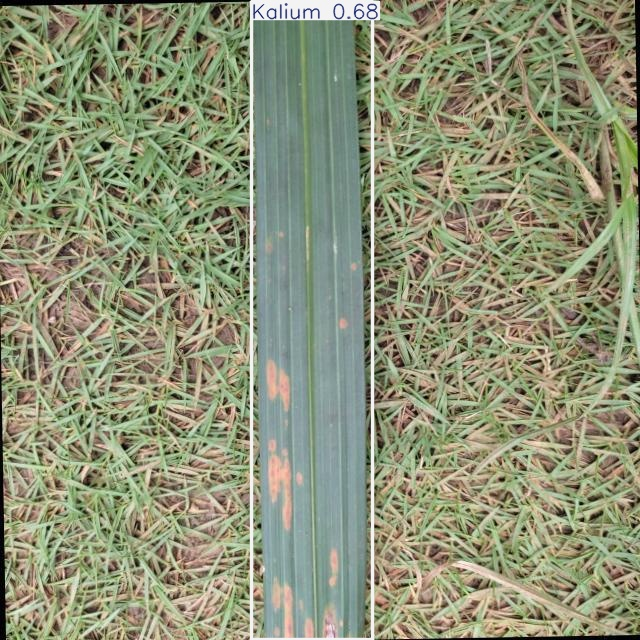Kalium: (251, 1, 372, 639)
